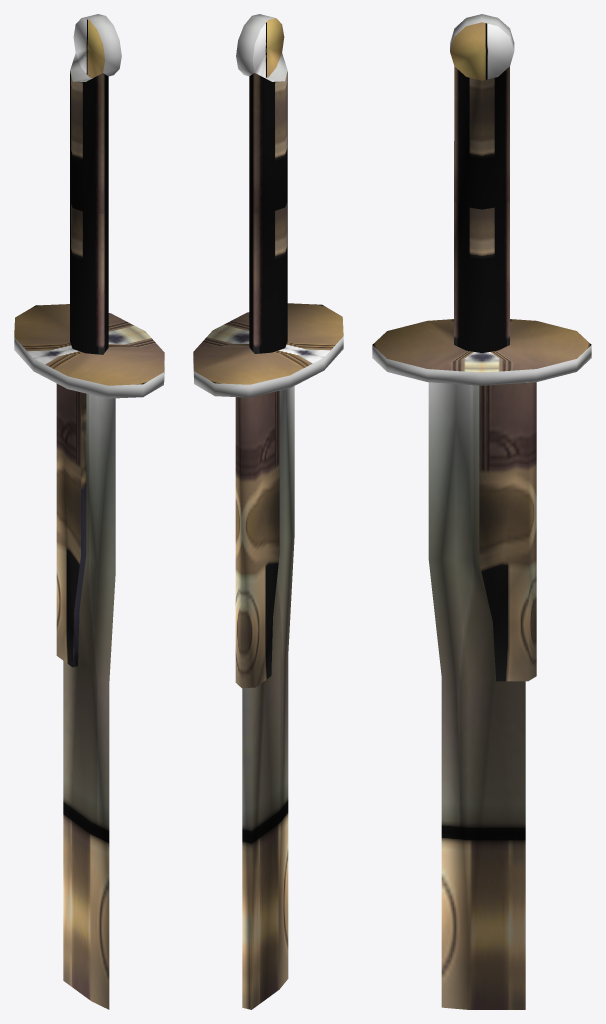
The model's file is dualswordsa2l.obj.
3 renders of one model, left to right at view 1: azimuth 30°, elevation 25°; view 2: azimuth 150°, elevation 25°; view 3: azimuth 270°, elevation 25°, orthographic. The views are drawn at different scales.
Visible parts, largest first — view 1: MDL_w2dswa2l_bod00; view 2: MDL_w2dswa2l_bod00; view 3: MDL_w2dswa2l_bod00.
Part boxes in pixels (bbox=[...]): MDL_w2dswa2l_bod00: bbox=[14, 14, 164, 1009]; MDL_w2dswa2l_bod00: bbox=[193, 14, 343, 1009]; MDL_w2dswa2l_bod00: bbox=[372, 14, 591, 1009].
Size of the model in its own units: 0.0917 by 0.7648 by 0.153.
